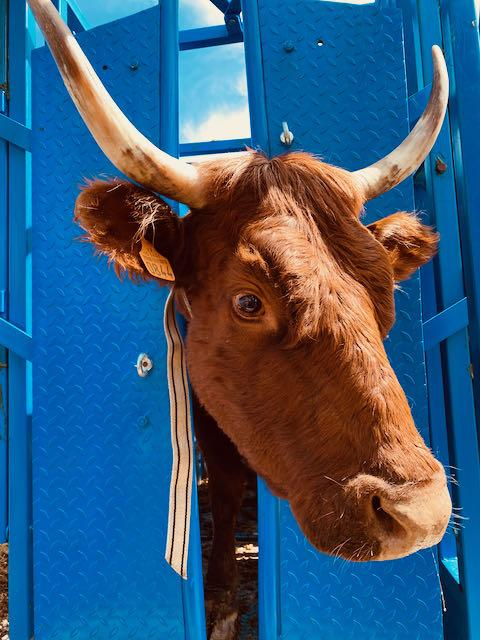muzzles: (336, 461, 470, 560)
